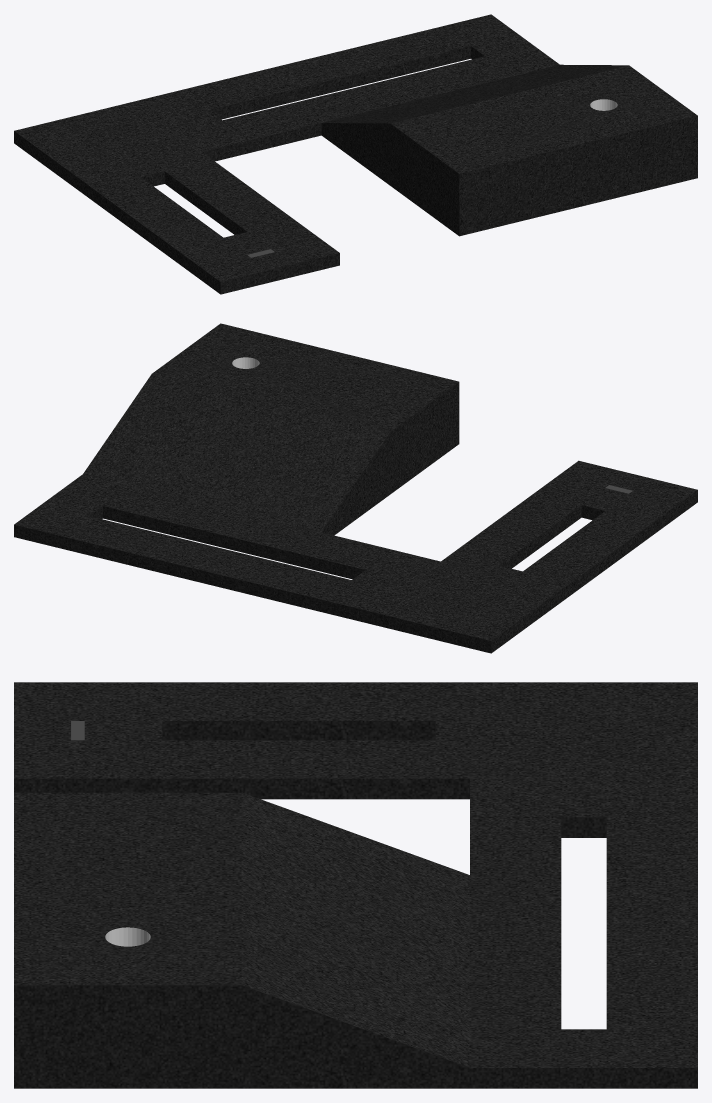
File: Hole 4 Base.glb
3 views of the same model, one above another, from view 1: azimuth 30°, elevation 25°; view 2: azimuth 150°, elevation 25°; view 3: azimuth 270°, elevation 25° (orthographic). The views are drawn at different scales.
Parts seen in each view (by area): view 1: Hole 4 Base; view 2: Hole 4 Base; view 3: Hole 4 Base.
Part boxes in pixels (x1,y1,x2,y2): Hole 4 Base: (14, 14, 697, 294); Hole 4 Base: (14, 323, 697, 653); Hole 4 Base: (14, 682, 697, 1088).
Size of what is drawn, in the model's own units: 8 by 1 by 6.
3 materials, 1 textured.
